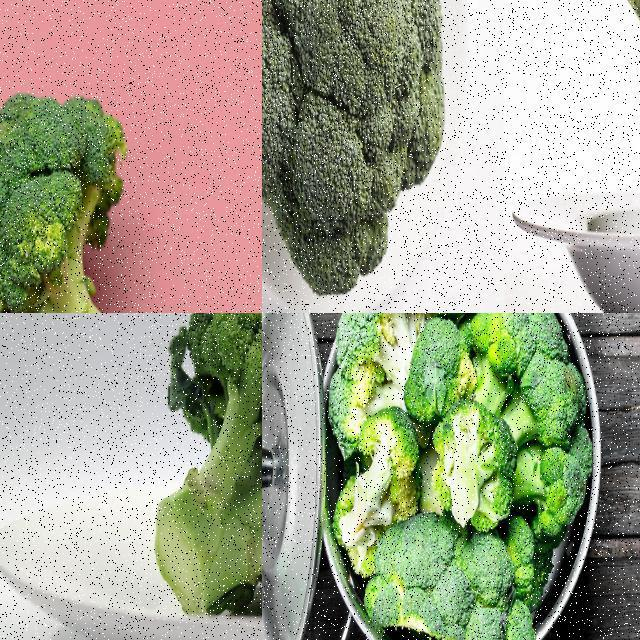broccoli: (262, 0, 451, 307), (0, 84, 195, 312), (153, 313, 261, 619), (467, 313, 597, 537), (324, 313, 431, 456), (431, 396, 520, 532), (406, 321, 484, 422), (354, 408, 417, 522)
